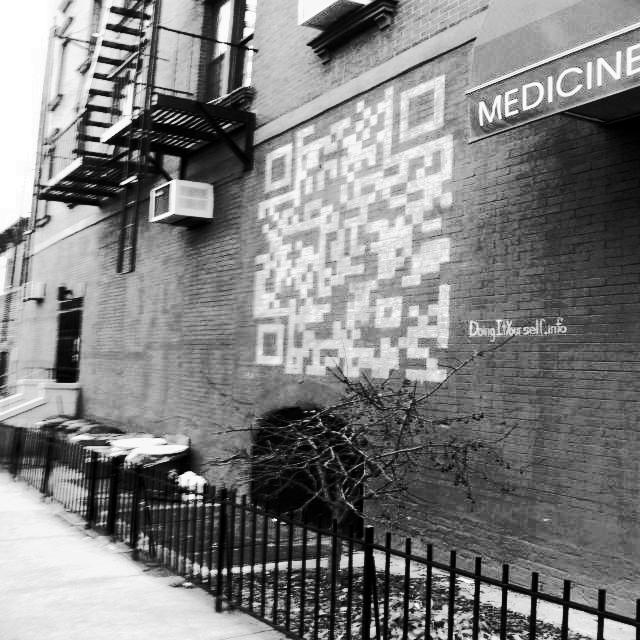qr_code: (251, 58, 453, 382)
